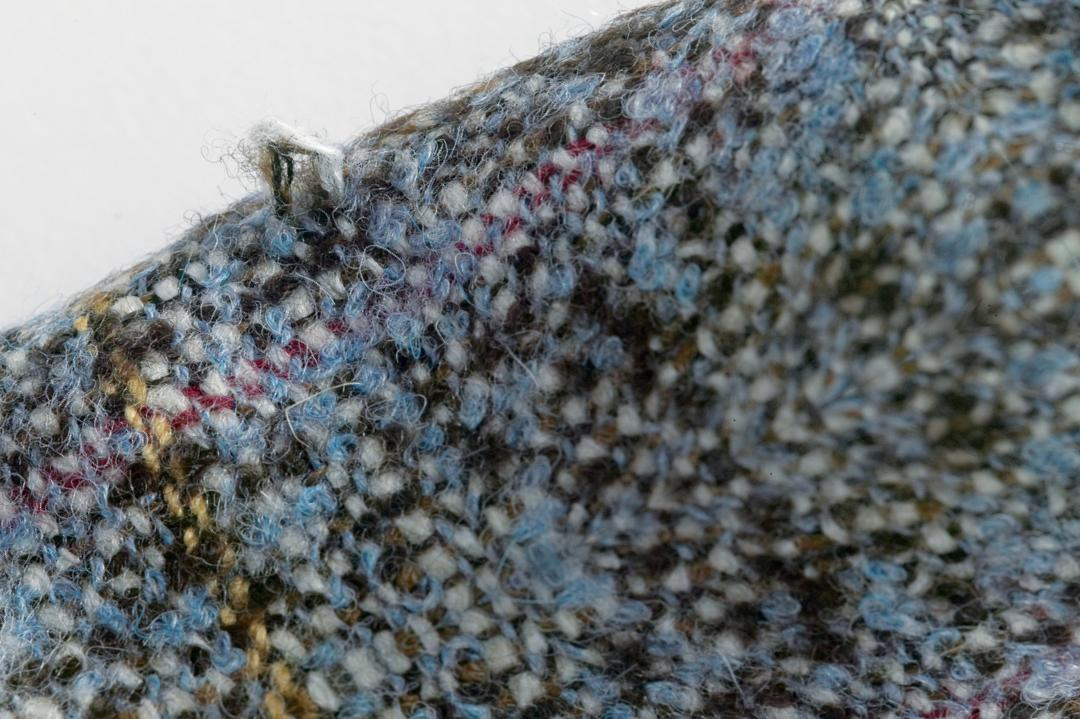snag: (213, 103, 367, 234)
